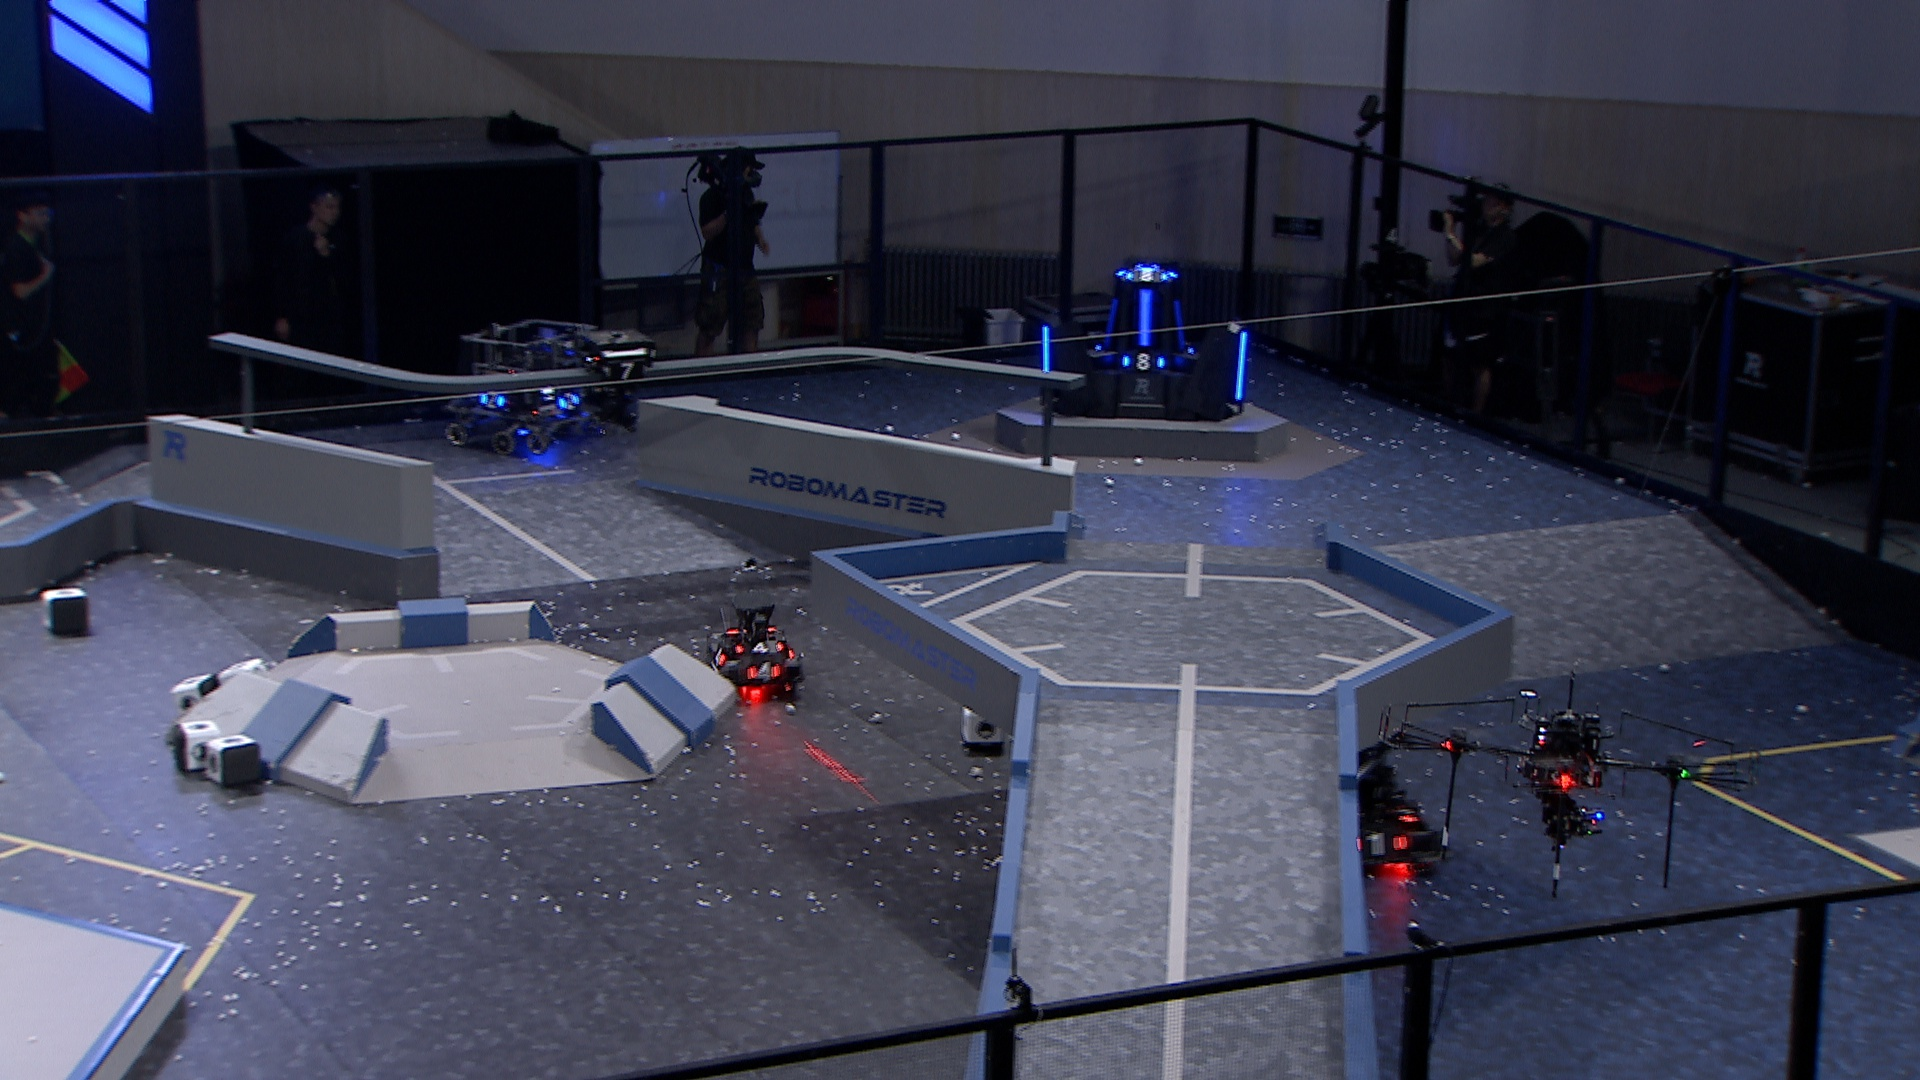armor: (1354, 831, 1410, 858), (1101, 295, 1122, 356), (1233, 328, 1249, 404), (1135, 289, 1155, 348), (1120, 351, 1167, 372), (745, 659, 783, 684), (1172, 297, 1188, 353), (732, 640, 787, 655), (604, 361, 647, 381), (1125, 266, 1168, 286), (1394, 800, 1419, 829), (1040, 324, 1054, 375), (479, 392, 509, 410), (556, 392, 582, 411), (709, 644, 728, 666)
base: (1034, 262, 1250, 427)
car: (1265, 711, 1447, 887), (443, 313, 603, 455), (704, 603, 803, 700)
watcher: (574, 328, 655, 429)
